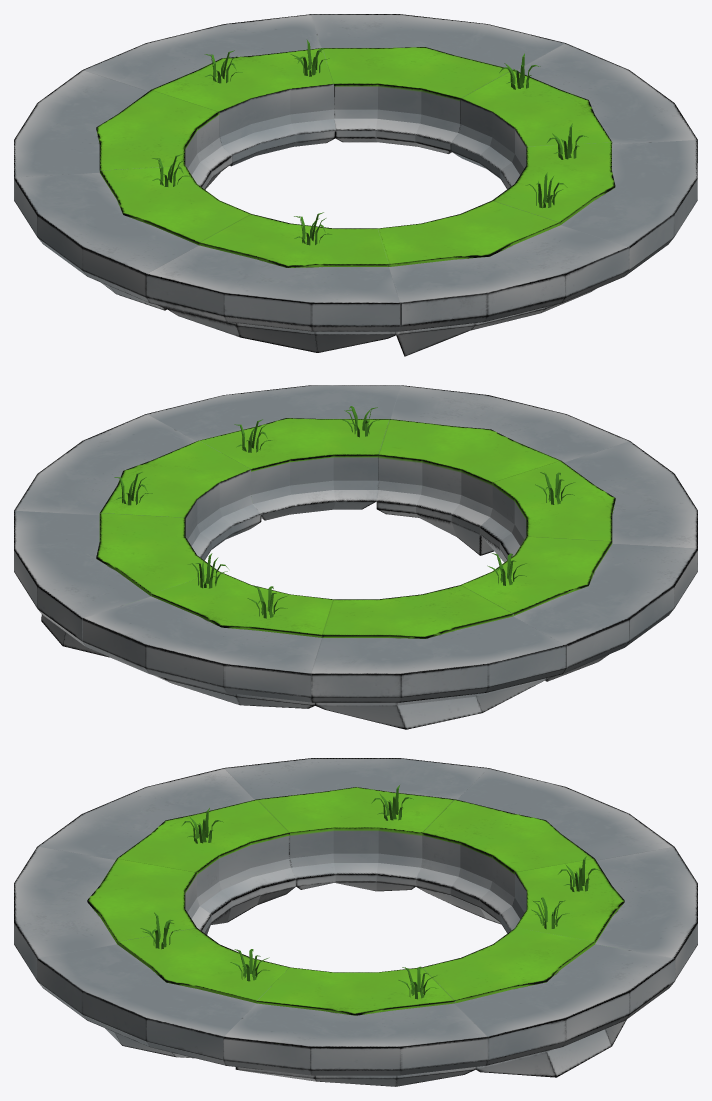
The model's file is disc.fbx.
3 views of the same model, one above another, from view 1: azimuth 30°, elevation 25°; view 2: azimuth 150°, elevation 25°; view 3: azimuth 270°, elevation 25° (orthographic).
Visible parts, largest first — view 1: disc; view 2: disc; view 3: disc.
Part boxes in pixels (x1,y1,x2,y2): disc: (14,14,697,356); disc: (14,385,697,729); disc: (14,758,697,1086).
Bounding box in the file's own units: 1099 × 201 × 1099.
2 materials, 1 textured.
